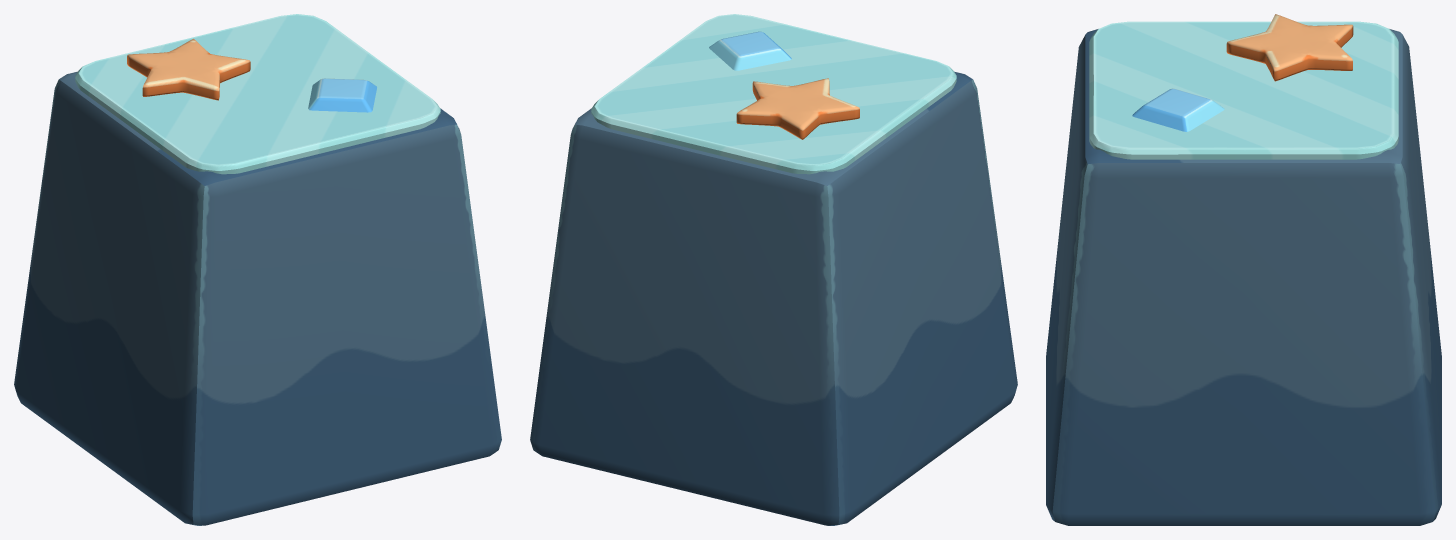
Rendered from S2_InF_Block_001.fbx.
3 views of the same model, side by side, from view 1: azimuth 30°, elevation 25°; view 2: azimuth 150°, elevation 25°; view 3: azimuth 270°, elevation 25° (orthographic). The views are drawn at different scales.
Parts seen in each view (by area): view 1: S2_InF_Block1_pCube268; view 2: S2_InF_Block1_pCube268; view 3: S2_InF_Block1_pCube268.
Part boxes in pixels (x1=…): S2_InF_Block1_pCube268: x1=14, y1=14, x2=501, y2=525; S2_InF_Block1_pCube268: x1=530, y1=14, x2=1017, y2=525; S2_InF_Block1_pCube268: x1=1046, y1=14, x2=1441, y2=525.
Size of the model in its own units: 0.9963 by 1.07 by 0.9964.
